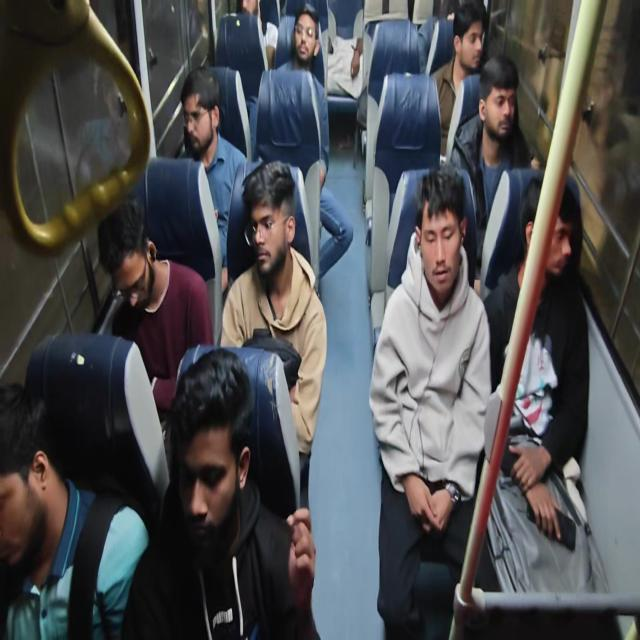person: (120, 346, 321, 639), (369, 167, 493, 637), (481, 172, 605, 595), (0, 380, 150, 639), (220, 160, 327, 496), (97, 196, 214, 413), (275, 4, 353, 280), (448, 53, 539, 288), (176, 65, 248, 291), (430, 1, 487, 161), (276, 4, 325, 87), (325, 0, 364, 98), (239, 0, 278, 71)
